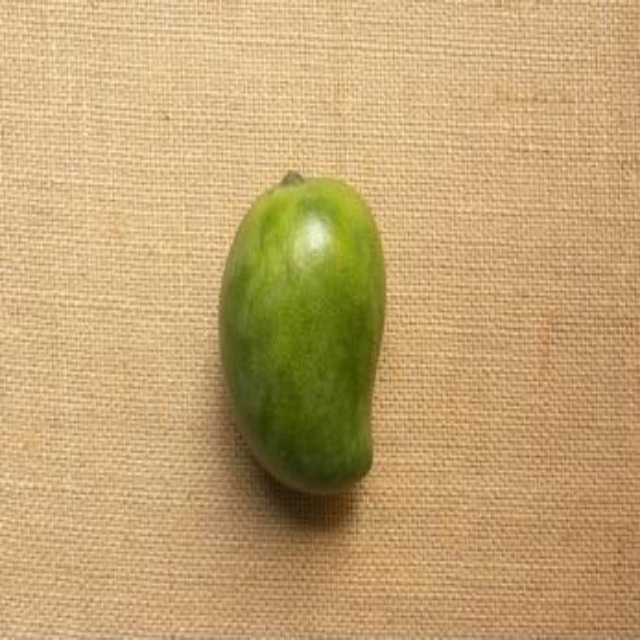mango: (218, 176, 389, 501)
